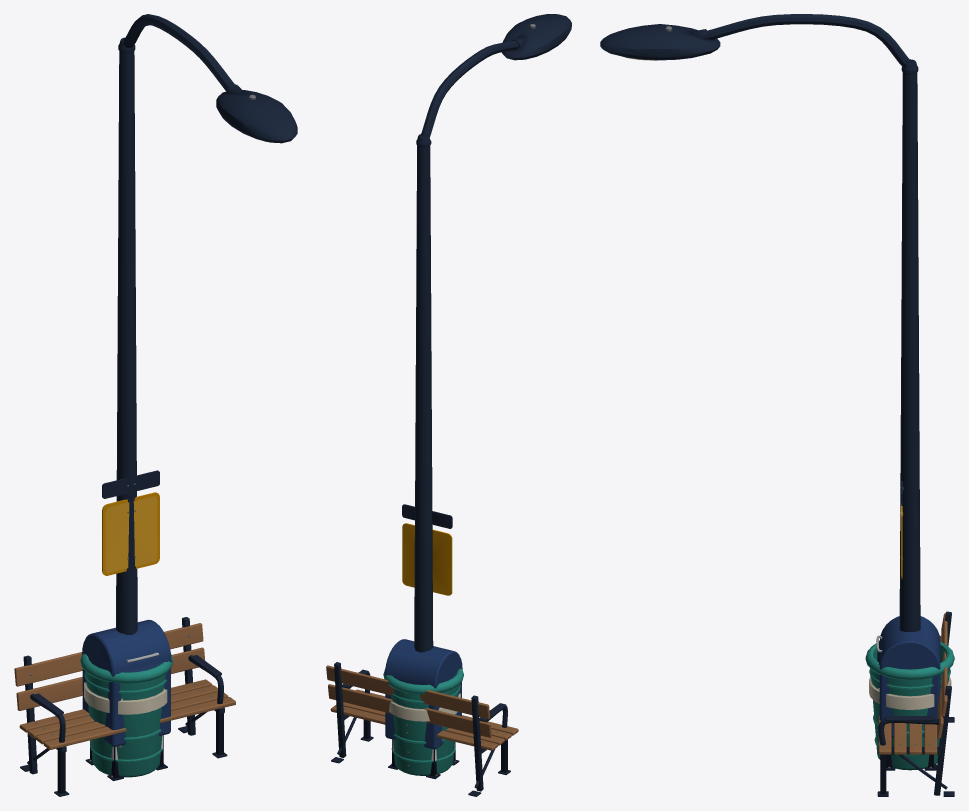
File: props.glb
The picture shows the model from 3 angles, left to right: view 1: azimuth 30°, elevation 25°; view 2: azimuth 150°, elevation 25°; view 3: azimuth 270°, elevation 25°; orthographic projection. The views are drawn at different scales.
Visible parts, largest first — view 1: lamp, bench, bin, mailbox, post; view 2: lamp, bench, bin, mailbox, post; view 3: lamp, bin, bench, mailbox.
Part boxes in pixels (box(x1,y1,x2,y2)): lamp: box(116, 14, 297, 634); bench: box(14, 617, 235, 796); bin: box(80, 653, 173, 777); mailbox: box(82, 619, 171, 780); post: box(102, 470, 159, 575); lamp: box(414, 14, 571, 652); bench: box(326, 662, 518, 796); bin: box(383, 668, 463, 775); mailbox: box(385, 639, 462, 779); post: box(402, 504, 452, 595); lamp: box(600, 14, 920, 631); bin: box(865, 641, 954, 770); bench: box(877, 611, 954, 796); mailbox: box(876, 616, 940, 770).
Size of the model in its own units: 1.7 by 6.74 by 2.91.
